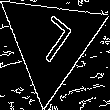L_SW: (25, 11, 77, 72)
